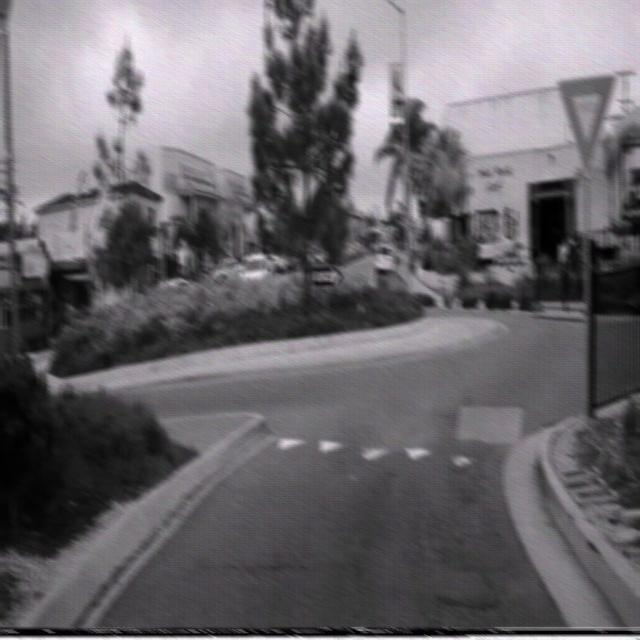yield: (556, 72, 616, 176)
